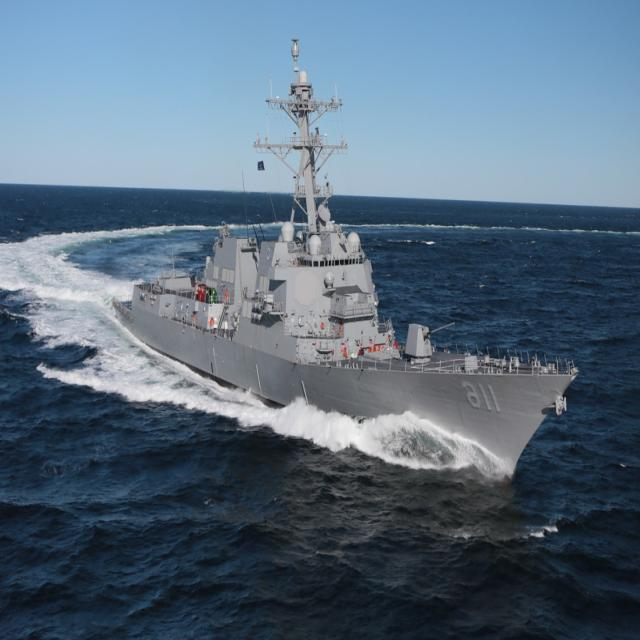navalvessels: (105, 55, 589, 498)
